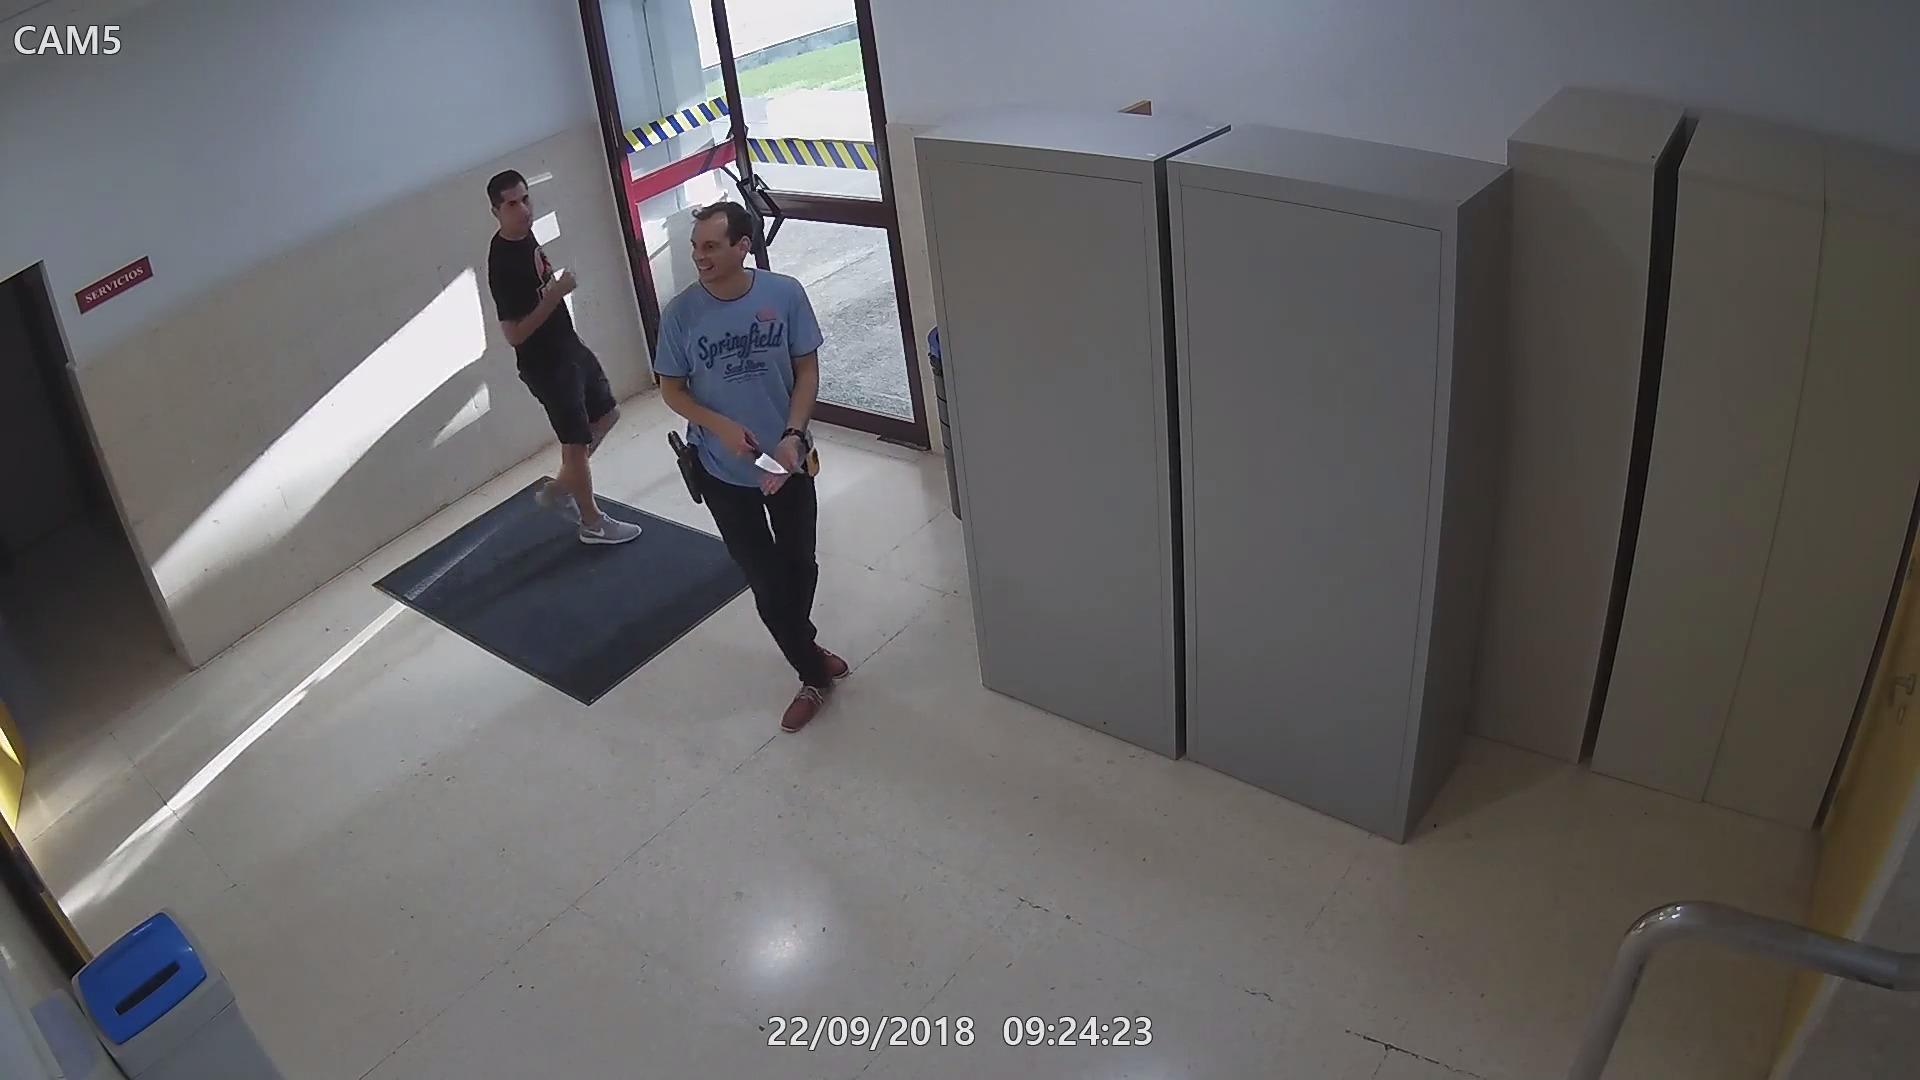knife: (716, 413, 793, 477)
pistol: (663, 429, 705, 506)
